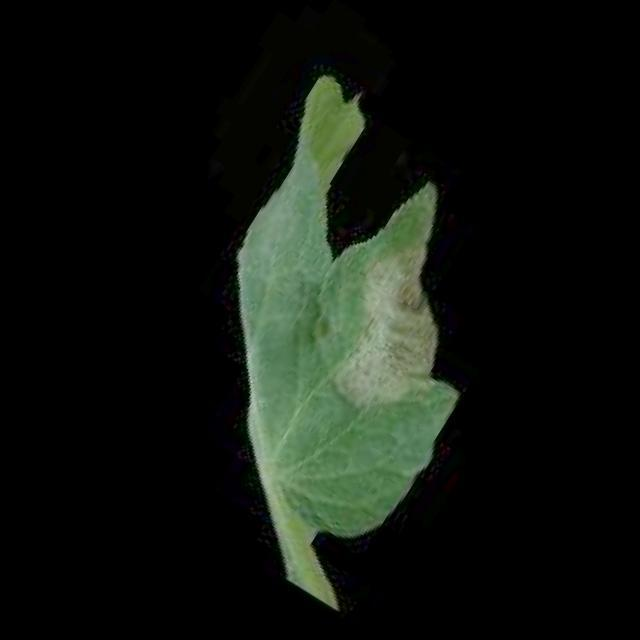Tomato late blight leaf: (104, 58, 583, 573)
